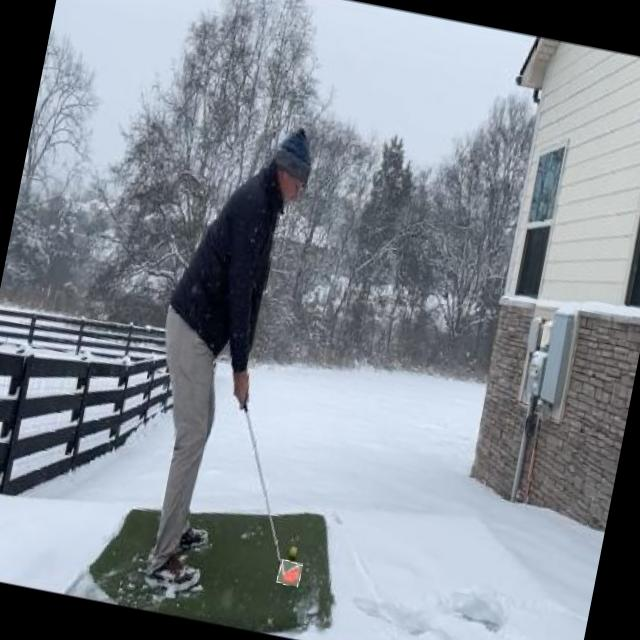club head: (276, 560, 303, 588)
